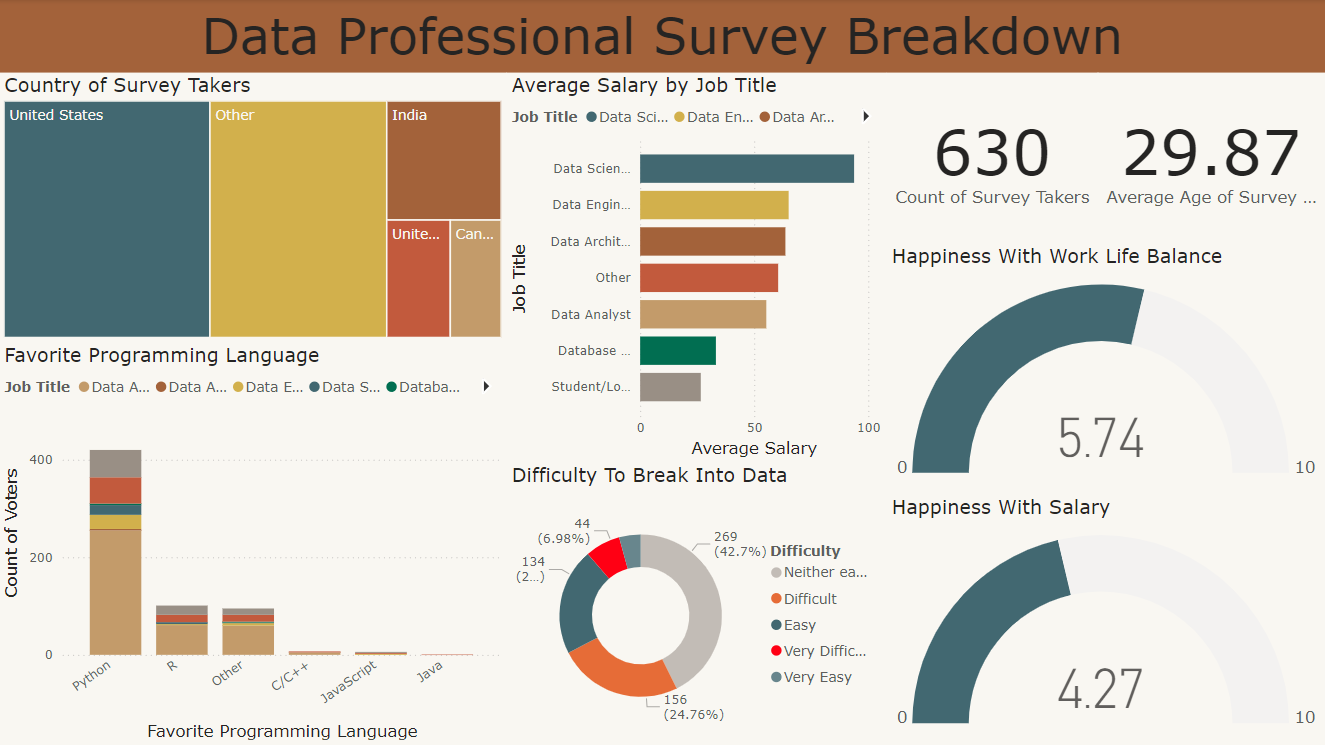

What the dashboard file says about the page in this screenshot:
{"tool":"powerbi","page":{"name":"Page 1","canvas":[1280,720],"ordinal":0},"visuals":[{"type":"textbox","box":[0,0,1280.3,71.4],"z":0},{"type":"card","fields":{"Values":["Count(Data Professional Survey.Unique ID)"]},"box":[856.3,71.4,204.5,164.7],"z":1000},{"type":"card","fields":{"Values":["Avg(Data Professional Survey.Q10 - Current Age)"]},"box":[1060.7,71.4,219.6,164.7],"z":2000},{"type":"barChart","title":"Average Salary by Job Title","fields":{"Category":["Data Professional Survey.Q1 - Which Title Best Fits your Current Role?.1"],"Y":["Avg(Data Professional Survey.Average Salary)"],"Series":["Data Professional Survey.Q1 - Which Title Best Fits your Current Role?.1"]},"box":[489.9,71.4,366.4,376],"z":3000},{"type":"columnChart","title":"Favorite Programming Language","fields":{"Category":["Data Professional Survey.Q5 - Favorite Programming Language.1"],"Y":["CountNonNull(Data Professional Survey.Unique ID)"],"Series":["Data Professional Survey.Q1 - Which Title Best Fits your Current Role?.1"]},"box":[0,332.1,489.9,388.3],"z":4000},{"type":"treemap","title":"Country of Survey Takers","fields":{"Values":["CountNonNull(Data Professional Survey.Q11 - Which Country do you live in?.1)"],"Group":["Data Professional Survey.Q11 - Which Country do you live in?.1"]},"box":[0,71.4,489.9,260.7],"z":4001},{"type":"gauge","title":"Happiness With Work Life Balance","fields":{"Y":["Avg(Data Professional Survey.Q6 - How Happy are you in your Current Position with the following? (Work/Life Balance))"],"MinValue":["Min(Data Professional Survey.Q6 - How Happy are you in your Current Position with the following? (Work/Life Balance))1"],"MaxValue":["Max(Data Professional Survey.Q6 - How Happy are you in your Current Position with the following? (Work/Life Balance))2"]},"box":[856.3,236,424,242.9],"z":4002},{"type":"gauge","title":"Happiness With Salary","fields":{"Y":["Avg(Data Professional Survey.Q6 - How Happy are you in your Current Position with the following? (Salary))"],"MinValue":["Min(Data Professional Survey.Q6 - How Happy are you in your Current Position with the following? (Salary))1"],"MaxValue":["Max(Data Professional Survey.Q6 - How Happy are you in your Current Position with the following? (Salary))2"]},"box":[856.3,478.9,424,241.5],"z":4003},{"type":"donutChart","title":"Difficulty To Break Into Data","fields":{"Category":["Data Professional Survey.Q7 - How difficult was it for you to break into Data?"],"Y":["CountNonNull(Data Professional Survey.Q7 - How difficult was it for you to break into Data?)"]},"box":[489.9,447.3,366.4,273.1],"z":4004}]}

Visuals, with their boxes in screenshot pixels (x1, y1, x2, y2), scaled from the page's 1280x720 canvas onto the 1325x745 screenshot:
textbox: Rect(0, 0, 1324, 74)
card - Count(Data Professional Survey.Unique ID): Rect(886, 74, 1098, 244)
card - Avg(Data Professional Survey.Q10 - Current Age): Rect(1098, 74, 1324, 244)
"Average Salary by Job Title" barChart: Rect(507, 74, 886, 463)
"Favorite Programming Language" columnChart: Rect(0, 344, 507, 744)
"Country of Survey Takers" treemap: Rect(0, 74, 507, 344)
"Happiness With Work Life Balance" gauge: Rect(886, 244, 1324, 496)
"Happiness With Salary" gauge: Rect(886, 496, 1324, 744)
"Difficulty To Break Into Data" donutChart: Rect(507, 463, 886, 744)
